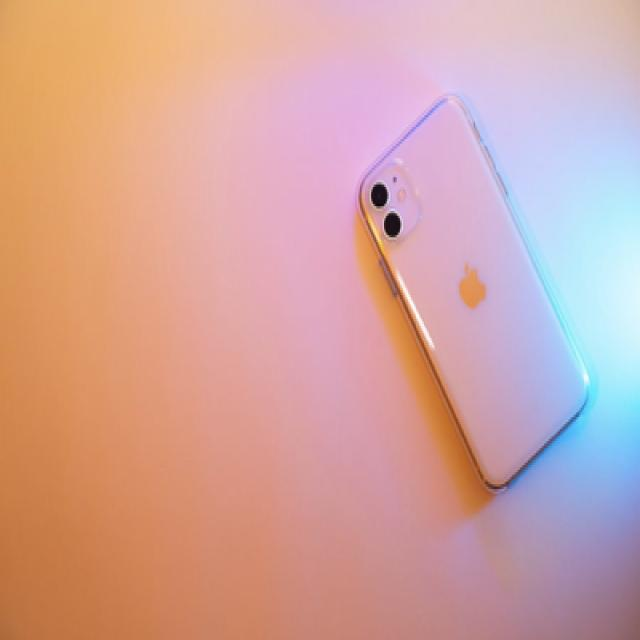cellphone: (354, 89, 590, 494)
